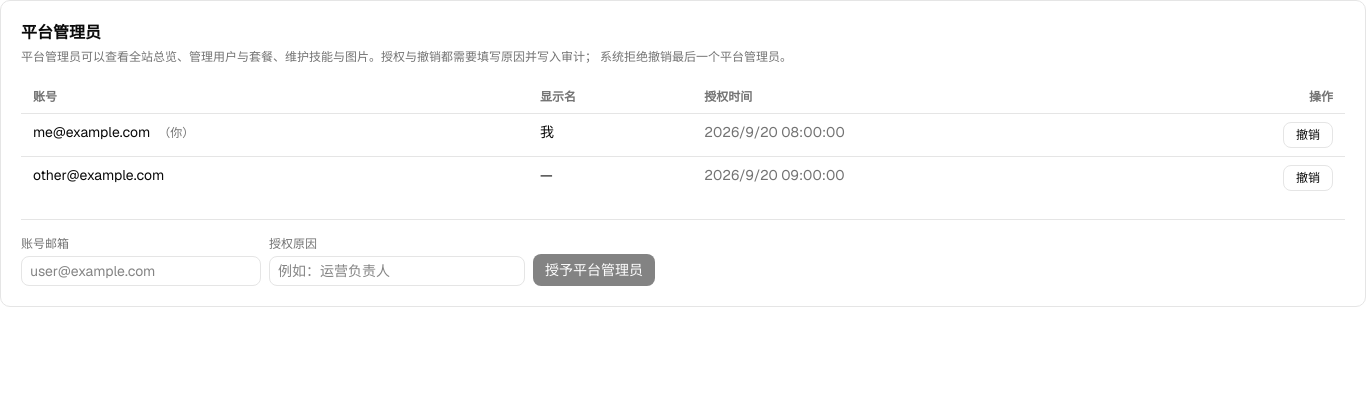
Test: admin access section › requires a reason before a grant can be submitted and shows the audit note
Expected: the table with test id "admin-admins" is shown, [21, 81, 1345, 199]
Expected: the button "授予平台管理员" is disabled, [533, 254, 655, 286]
In the field named "要授权的账号邮箱": coordinates (141, 271) [21, 256, 261, 286], type "new@example.com"
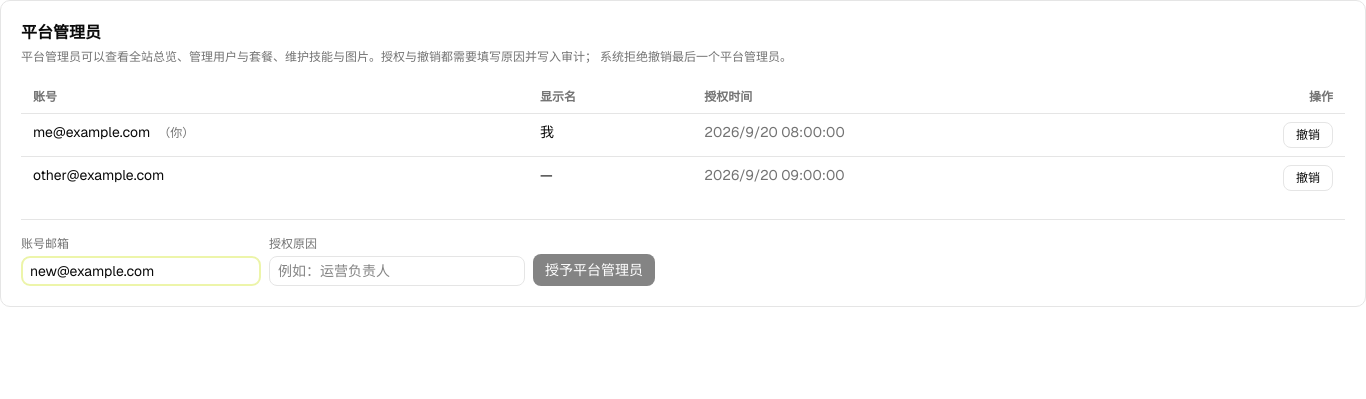
In the field labelled "授权原因": coordinates (397, 271) [269, 256, 525, 286], type "运"
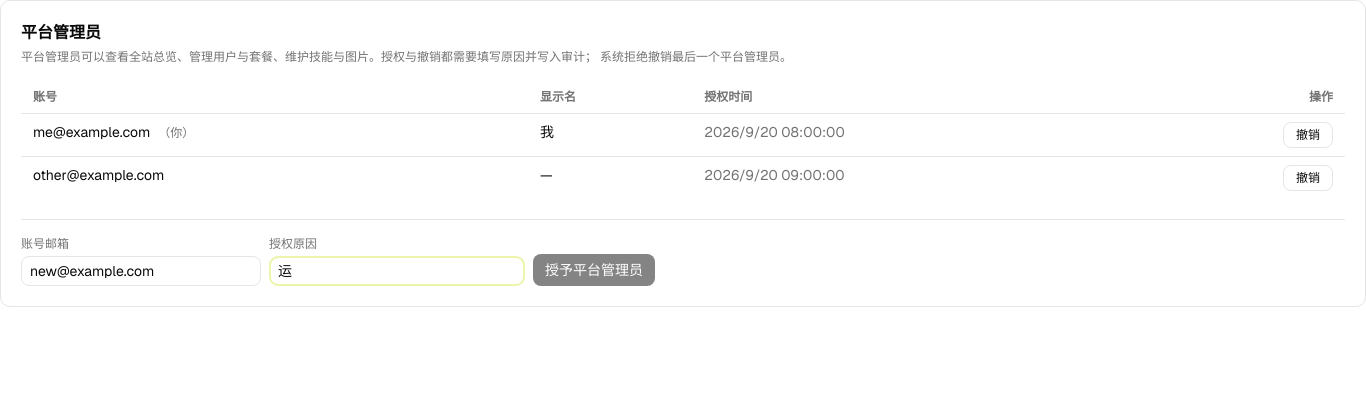
Expected: the button "授予平台管理员" is disabled, [533, 254, 655, 286]
In the field labelled "授权原因": coordinates (397, 271) [269, 256, 525, 286], type "营负责人"
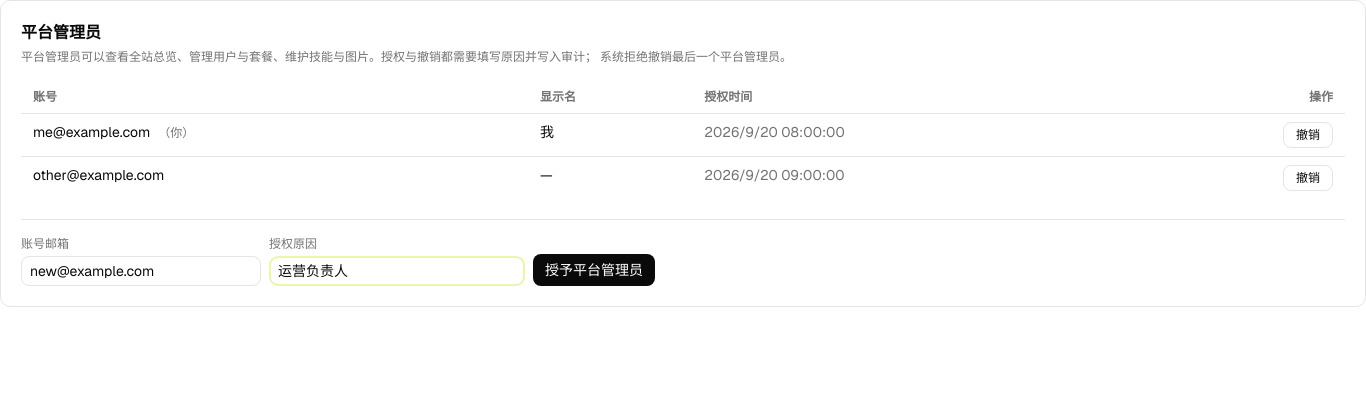
Now the button "授予平台管理员" is enabled
Click the button "授予平台管理员": coordinates (594, 270) [533, 254, 655, 286]
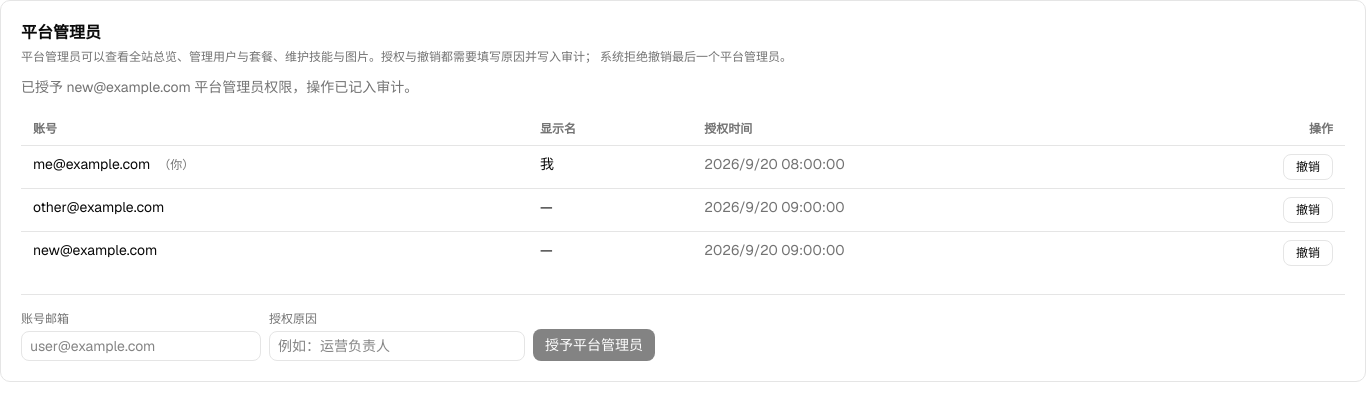
Now the text with test id "admin-access-feedback" reads "已授予 new@example.com 平台管理员权限，操作已记入审计。", box [21, 78, 418, 96]
Now the text "new@example.com" is shown, box [21, 232, 528, 274]
